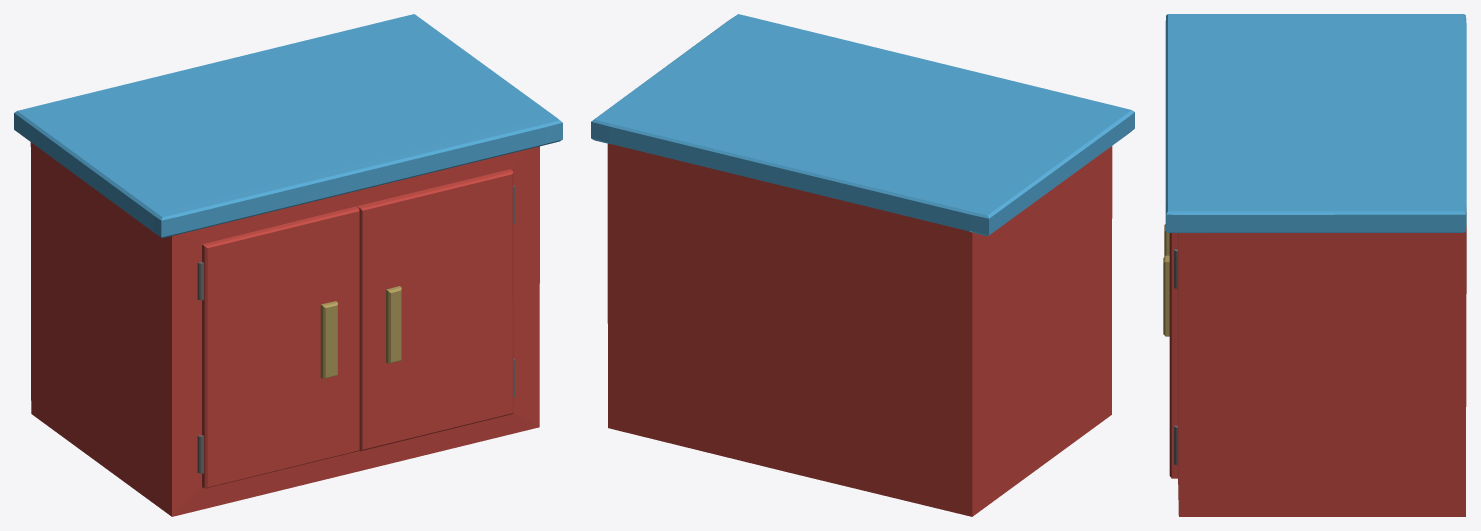
The model's file is LudumDareCabinetClosed.fbx.
The picture shows the model from 3 angles, left to right: view 1: azimuth 30°, elevation 25°; view 2: azimuth 150°, elevation 25°; view 3: azimuth 270°, elevation 25°; orthographic projection. The views are drawn at different scales.
Parts seen in each view (by area): view 1: Doors, Cabinet Top, Cabinet Closed, Handles, Hinges; view 2: Cabinet Closed, Cabinet Top; view 3: Cabinet Closed, Cabinet Top, Doors, Handles.
Part boxes in pixels (x1,y1,x2,y2): Doors: (202, 169, 513, 488); Cabinet Top: (14, 14, 562, 238); Cabinet Closed: (30, 142, 539, 516); Handles: (320, 286, 401, 378); Hinges: (197, 185, 514, 473); Cabinet Closed: (607, 143, 1112, 516); Cabinet Top: (591, 14, 1134, 236); Cabinet Closed: (1178, 225, 1466, 516); Cabinet Top: (1165, 14, 1466, 232); Doors: (1169, 233, 1177, 478); Handles: (1163, 224, 1169, 336).
Size of the model in its own units: 116 by 84.54 by 74.21.
